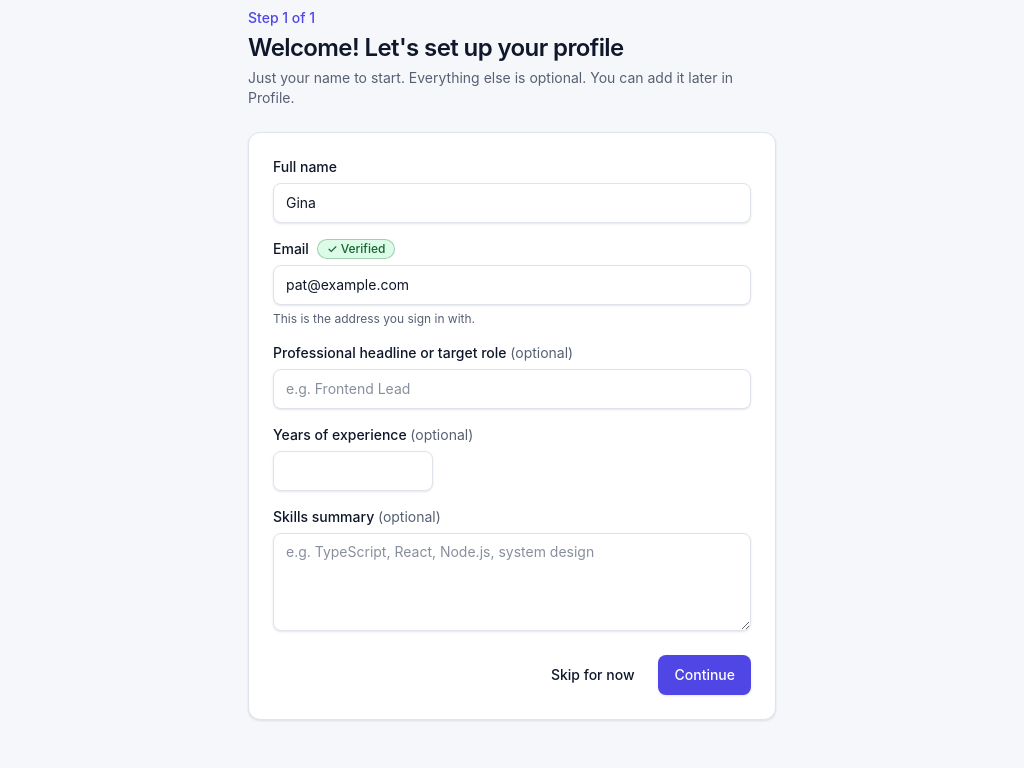
Test: onboarding gate › sends users who haven't onboarded to a short form where only the name is required
This screenshot has width=1024, height=768.
(page scrolled)
Expected: the heading "Welcome! Let's set up your profile" is shown, [248,33,624,62]
Expected: the field labelled "phone" is not shown
Click the button "Skip for now": (593, 675) [535,655,650,695]
(page scrolled)
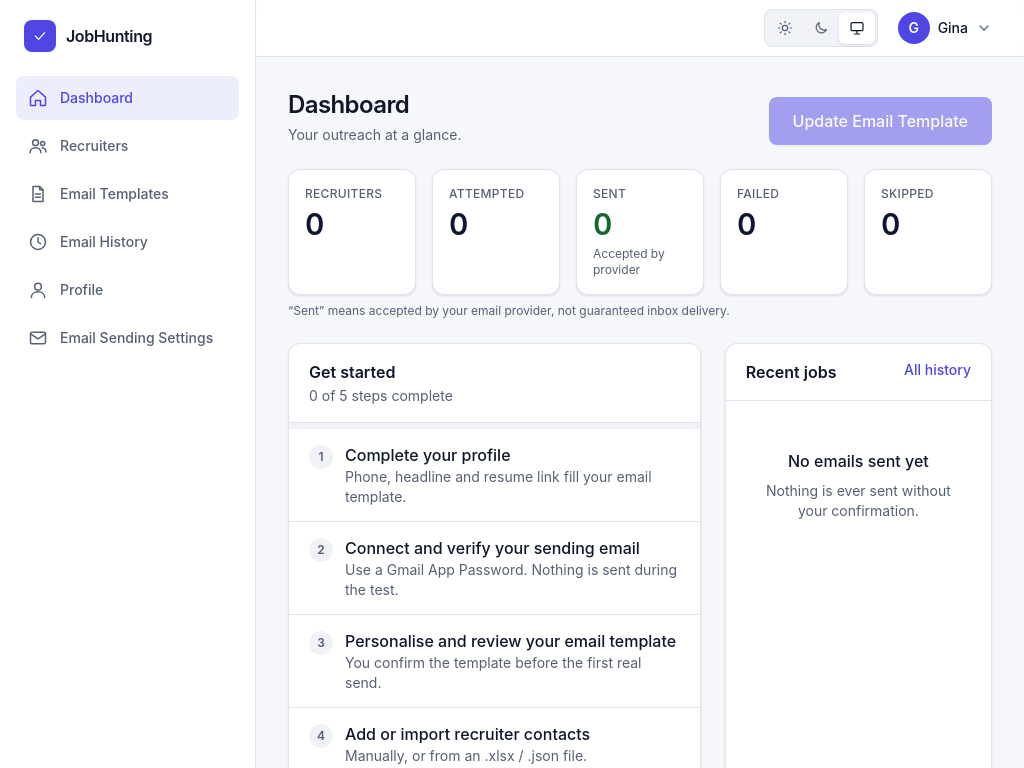
Expected: the heading "Dashboard" is shown, [288,90,409,119]
